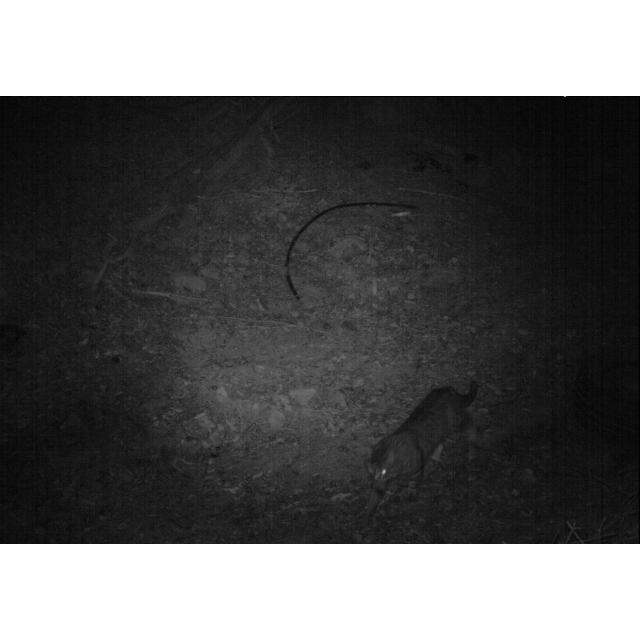animals: (364, 374, 484, 501)
